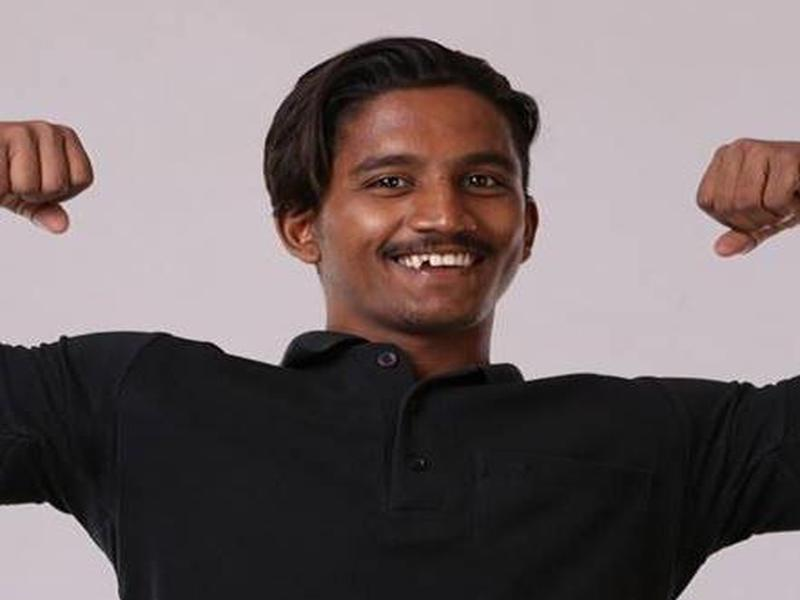without_mask: (324, 118, 526, 325)
